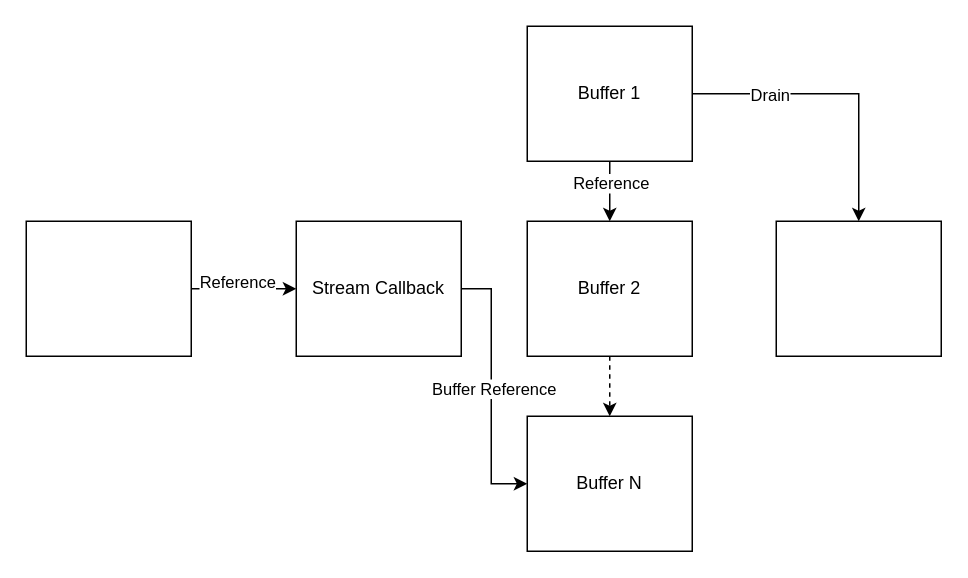
The diagram is 968 pixels wide and 578 high, and some of its shapes have lost their labels. The box of each missing label's shape, as (x1, y1, x2, y2) in pixels:
MsQuic Buffer: (25, 220, 191, 356)
Rx Thread: (775, 220, 941, 356)
